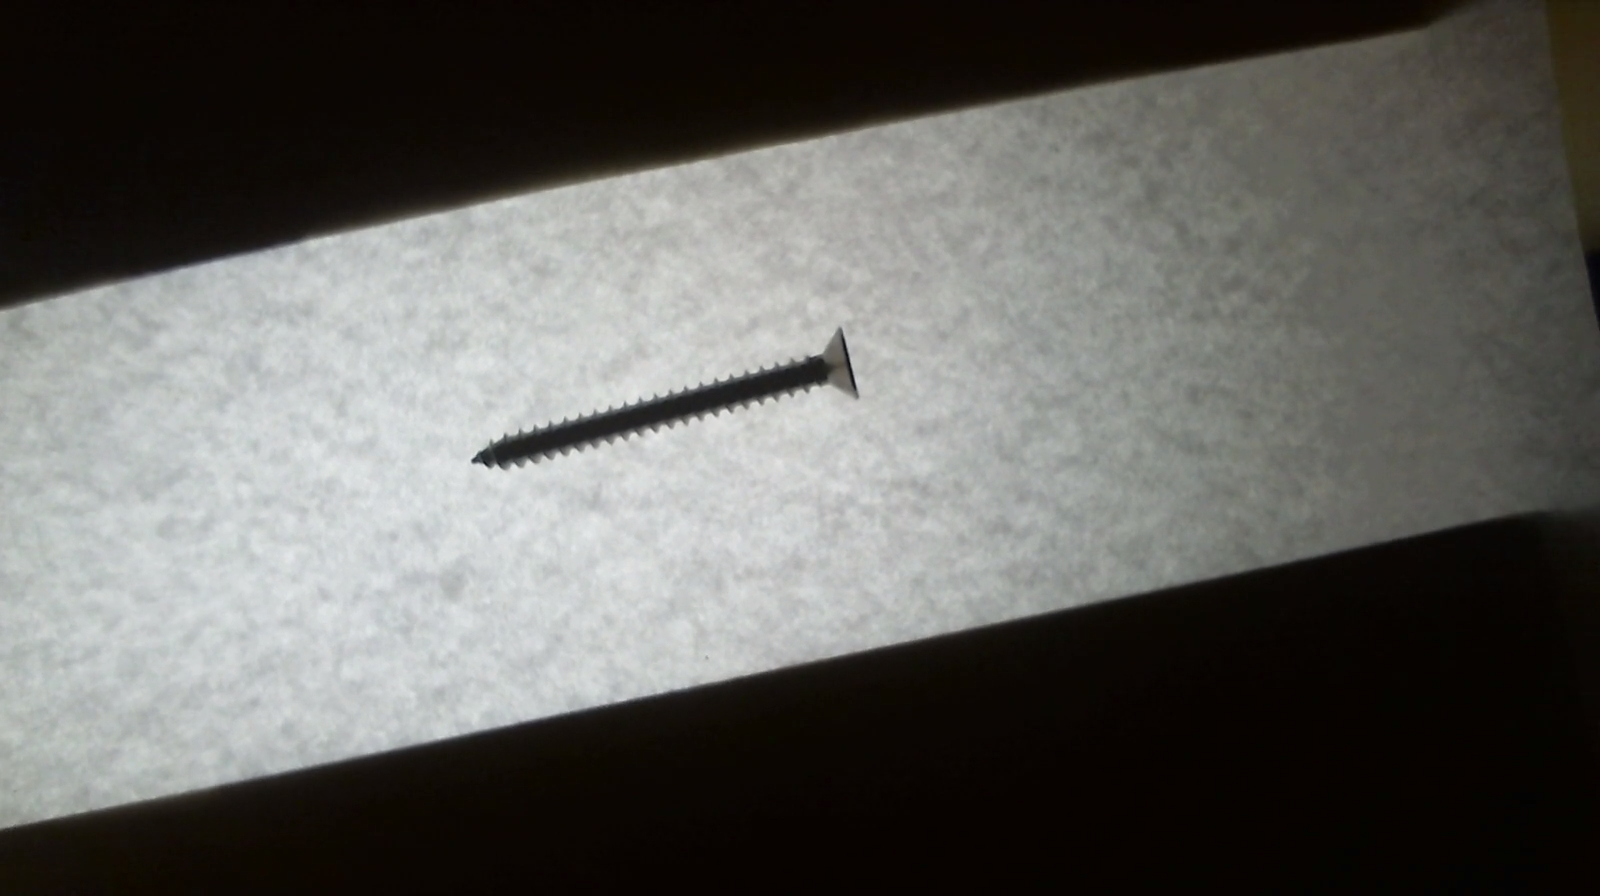S002: (469, 324, 855, 472)
